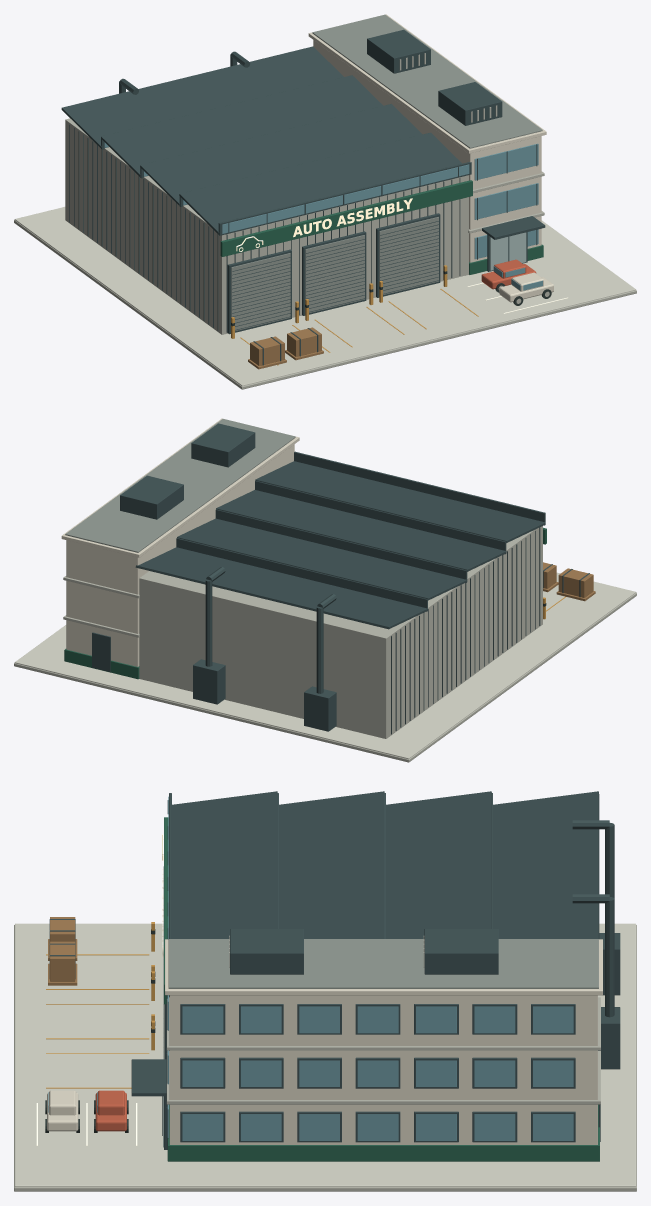
The model's file is large-8x8-auto-assembly-07.glb.
3 renders of one model, top to bottom at view 1: azimuth 30°, elevation 25°; view 2: azimuth 150°, elevation 25°; view 3: azimuth 270°, elevation 25°, orthographic. The views are drawn at different scales.
Parts seen in each view (by area): view 1: ConcreteYard, AssemblyHall, SawtoothRoof, SawtoothRoof.001, SawtoothRoof.002, SawtoothRoof.003, OfficeRoofDeck, OfficeWing, LoadingShutter.001, LoadingShutter, LoadingShutter.002, BrandBand (+17 smaller); view 2: AssemblyHall, ConcreteYard, OfficeWing, OfficeRoofDeck, SawtoothRoof.003, SawtoothRoof.002, SawtoothRoof, SawtoothRoof.001, RooflightFrame, RooflightFrame.002, RooflightFrame.003, RooflightFrame.001 (+11 smaller); view 3: ConcreteYard, OfficeWing, OfficeRoofDeck, SawtoothRoof.001, SawtoothRoof.003, SawtoothRoof, SawtoothRoof.002, OfficePlinth, Lot_8x8, OfficeRoof, AirHandlingUnit.001, AirHandlingUnit (+35 smaller).
Boxes of the visible parts, left/top/right/bottom form: ConcreteYard: left=14, top=207, right=635, bottom=386; AssemblyHall: left=65, top=118, right=468, bottom=334; SawtoothRoof: left=179, top=132, right=461, bottom=234; SawtoothRoof.001: left=140, top=104, right=422, bottom=205; SawtoothRoof.002: left=101, top=75, right=383, bottom=176; SawtoothRoof.003: left=61, top=46, right=343, bottom=147; OfficeRoofDeck: left=312, top=14, right=542, bottom=148; OfficeWing: left=313, top=40, right=541, bottom=262; LoadingShutter.001: left=305, top=235, right=364, bottom=313; LoadingShutter: left=231, top=253, right=290, bottom=331; LoadingShutter.002: left=379, top=217, right=438, bottom=294; BrandBand: left=220, top=180, right=472, bottom=256; AssemblyHall: left=139, top=526, right=542, bottom=738; ConcreteYard: left=14, top=572, right=636, bottom=759; OfficeWing: left=66, top=444, right=294, bottom=666; OfficeRoofDeck: left=65, top=419, right=295, bottom=552; SawtoothRoof.003: left=135, top=547, right=427, bottom=629; SawtoothRoof.002: left=177, top=518, right=467, bottom=600; SawtoothRoof: left=255, top=461, right=545, bottom=542; SawtoothRoof.001: left=216, top=490, right=506, bottom=571; RooflightFrame: left=294, top=451, right=545, bottom=525; RooflightFrame.002: left=215, top=509, right=467, bottom=582; RooflightFrame.003: left=176, top=538, right=427, bottom=611; RooflightFrame.001: left=255, top=480, right=506, bottom=554; ConcreteYard: left=15, top=923, right=635, bottom=1187; OfficeWing: left=169, top=995, right=597, bottom=1144; OfficeRoofDeck: left=168, top=939, right=598, bottom=988; SawtoothRoof.001: left=279, top=791, right=384, bottom=938; SawtoothRoof.003: left=493, top=791, right=599, bottom=938; SawtoothRoof: left=172, top=791, right=277, bottom=938; SawtoothRoof.002: left=386, top=791, right=491, bottom=938; OfficePlinth: left=167, top=1104, right=599, bottom=1161; Lot_8x8: left=14, top=925, right=636, bottom=1191; OfficeRoof: left=165, top=939, right=602, bottom=995; AirHandlingUnit.001: left=424, top=929, right=498, bottom=974; AirHandlingUnit: left=230, top=929, right=303, bottom=974.
Size of the model in its own units: 32 by 11.42 by 32.
